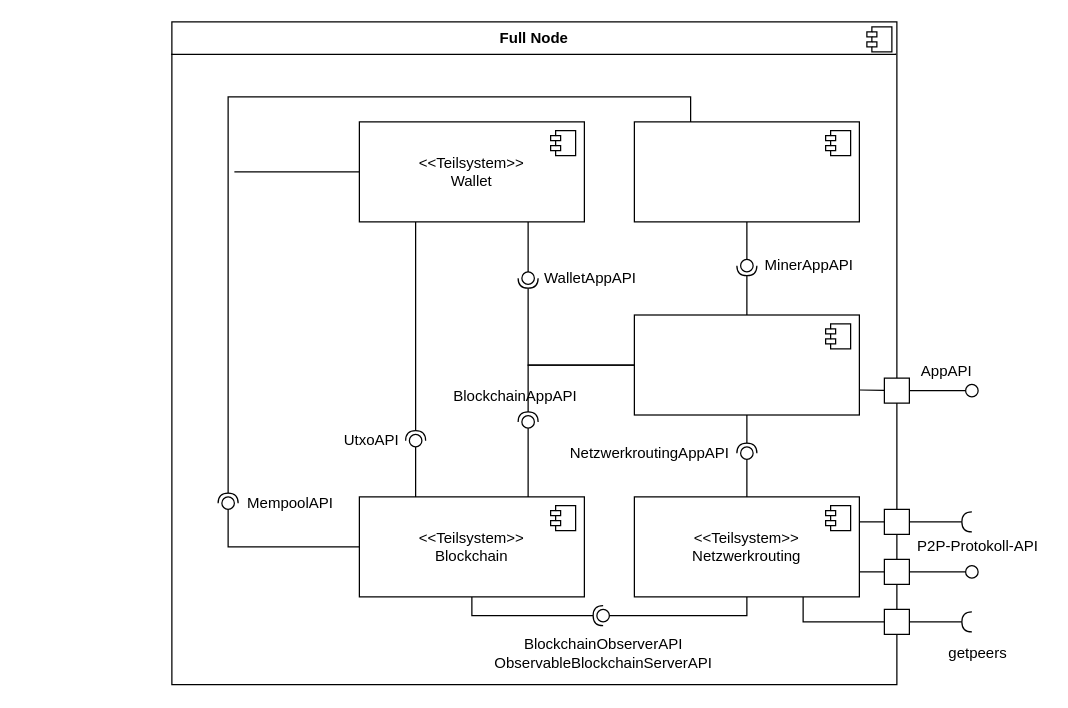
Image size: 1068x708. Some labels were removed from this diagram. The centre of each missing label's shape, as x and y in pixels:
"<<optional>> App" belongs at point (746, 364).
"<<Teilsystem>> Miner" belongs at point (746, 171).
